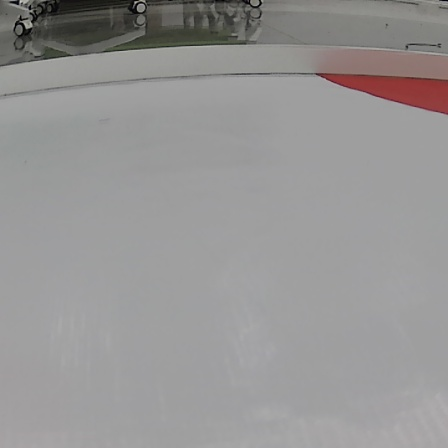red_base: (313, 60, 448, 119)
